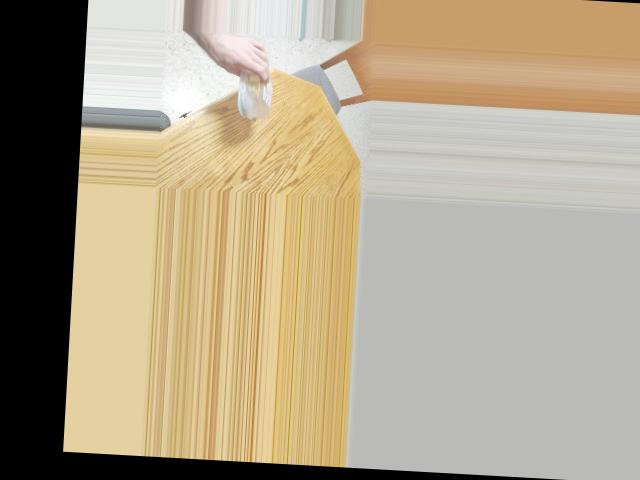cheese: (225, 49, 284, 116)
